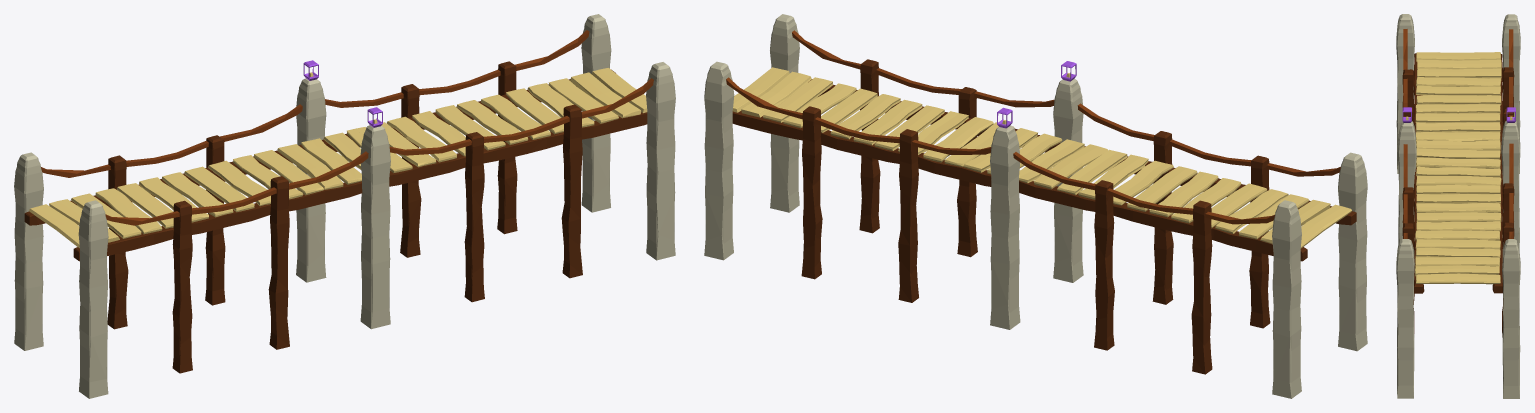
File: Steg2.fbx
3 views of the same model, side by side, from view 1: azimuth 30°, elevation 25°; view 2: azimuth 150°, elevation 25°; view 3: azimuth 270°, elevation 25° (orthographic). The views are drawn at different scales.
Parts seen in each view (by area): view 1: Cube.004; view 2: Cube.004; view 3: Cube.004.
Boxes of the visible parts, <box> form: Cube.004: <box>14,14,675,398</box>; Cube.004: <box>704,14,1367,398</box>; Cube.004: <box>1396,14,1520,398</box>.
Size of the model in its own units: 6517 by 2261 by 1472.
